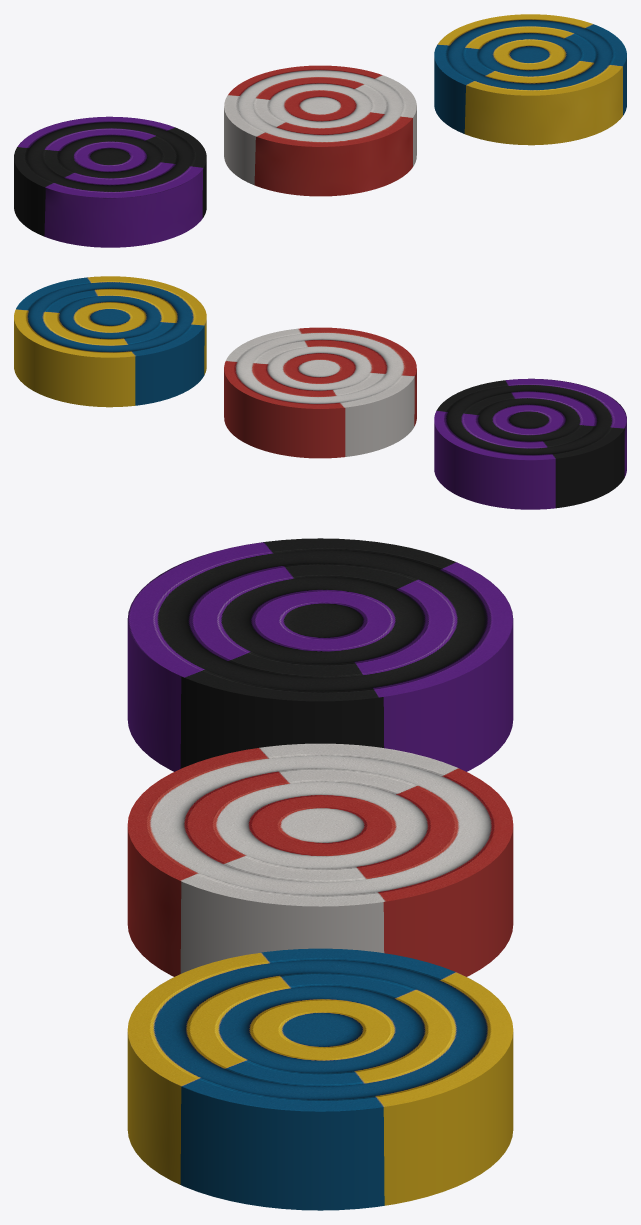
File: StripedCoin.fbx
3 renders of one model, top to bottom at view 1: azimuth 30°, elevation 25°; view 2: azimuth 150°, elevation 25°; view 3: azimuth 270°, elevation 25°, orthographic. The views are drawn at different scales.
Visible parts, largest first — view 1: coinlowpoly64.002, coinlowpoly64, coinlowpoly64.001; view 2: coinlowpoly64.002, coinlowpoly64, coinlowpoly64.001; view 3: coinlowpoly64, coinlowpoly64.001, coinlowpoly64.002.
Boxes of the visible parts, box(x1,y1,x2,y2) form: coinlowpoly64.002: box(224, 65, 416, 196); coinlowpoly64: box(434, 14, 626, 145); coinlowpoly64.001: box(14, 116, 206, 247); coinlowpoly64.002: box(224, 327, 416, 458); coinlowpoly64: box(14, 276, 206, 407); coinlowpoly64.001: box(434, 378, 626, 509); coinlowpoly64: box(127, 948, 513, 1210); coinlowpoly64.001: box(127, 538, 513, 771); coinlowpoly64.002: box(127, 743, 513, 976).
Bounding box in the file's own units: 0.1118 × 0.009 × 0.0318.
3 materials, 3 textured.
